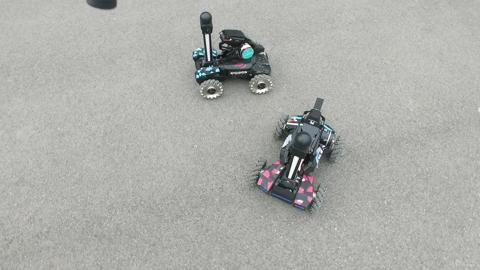chariot: (246, 96, 346, 217), (173, 6, 277, 102)
